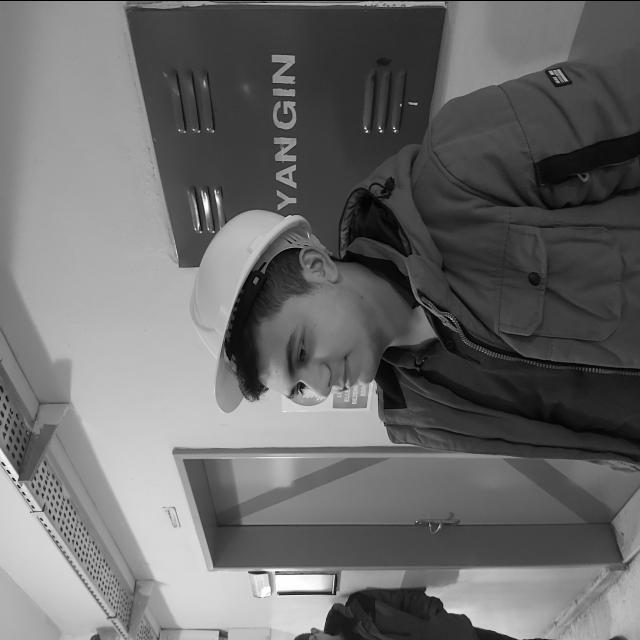safety_helmet: (190, 208, 319, 413)
